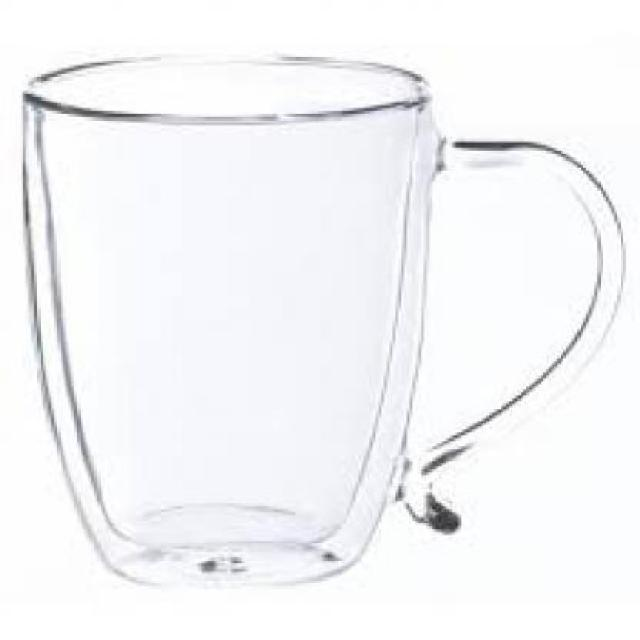kaca: (20, 54, 623, 577)
